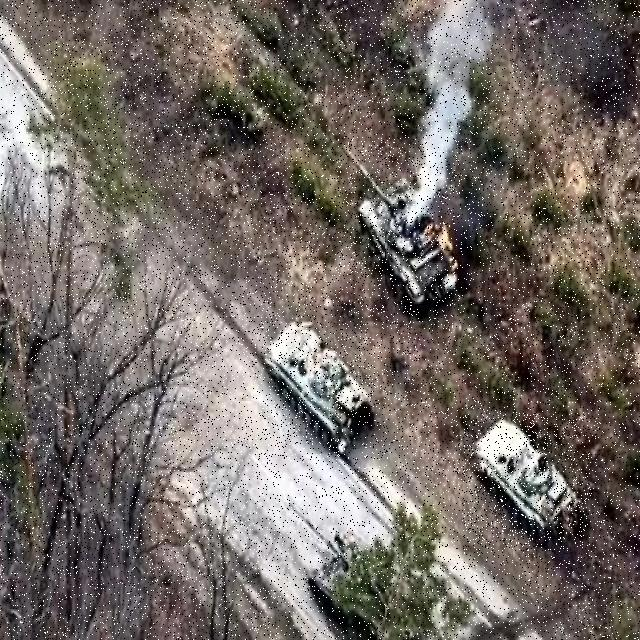MIL_MBT: (336, 137, 462, 317), (463, 412, 590, 551), (262, 322, 376, 460)
